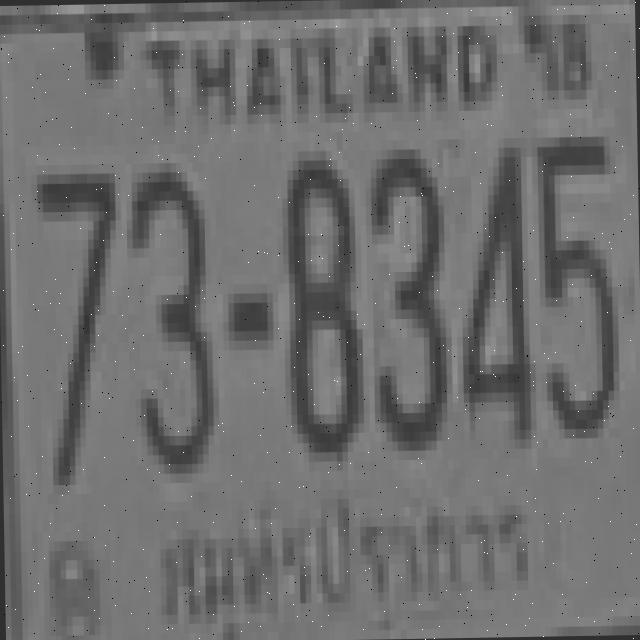3: (125, 167, 214, 469), (364, 140, 442, 442)
4: (456, 138, 528, 440)
5: (531, 127, 614, 429)
7: (34, 168, 116, 481), (34, 164, 116, 419)
8: (280, 150, 358, 452)
SamutPrakan: (156, 479, 541, 622)
